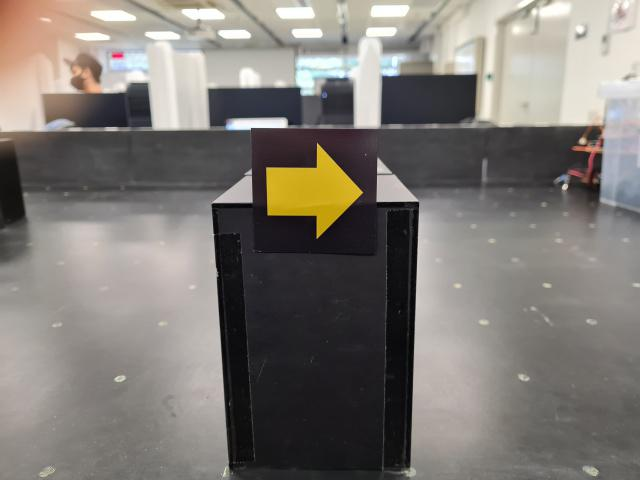right: (249, 126, 377, 256)
